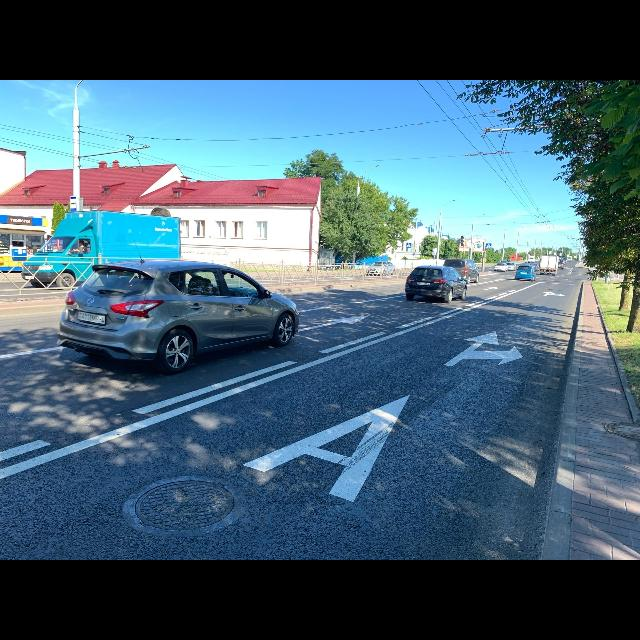road: (0, 269, 584, 560)
